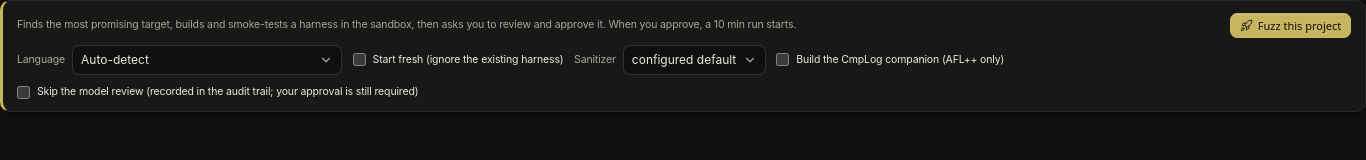
it: asks before running when the target already had an approved harness
Later steps or results of the test are not shown.
Click the button "Fuzz this project" at point(1290, 25), box [1230,13,1351,38]
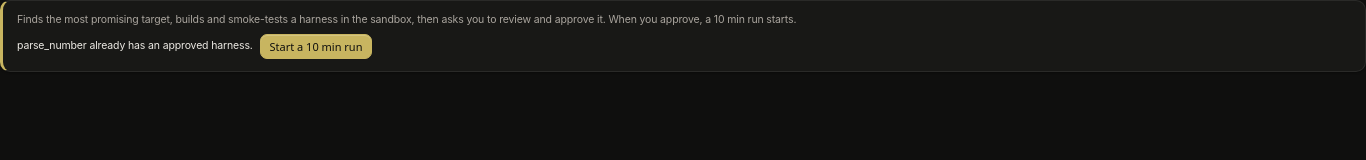
Result: the text "parse_number already has an approved harness" is shown at [17,39,253,52]
